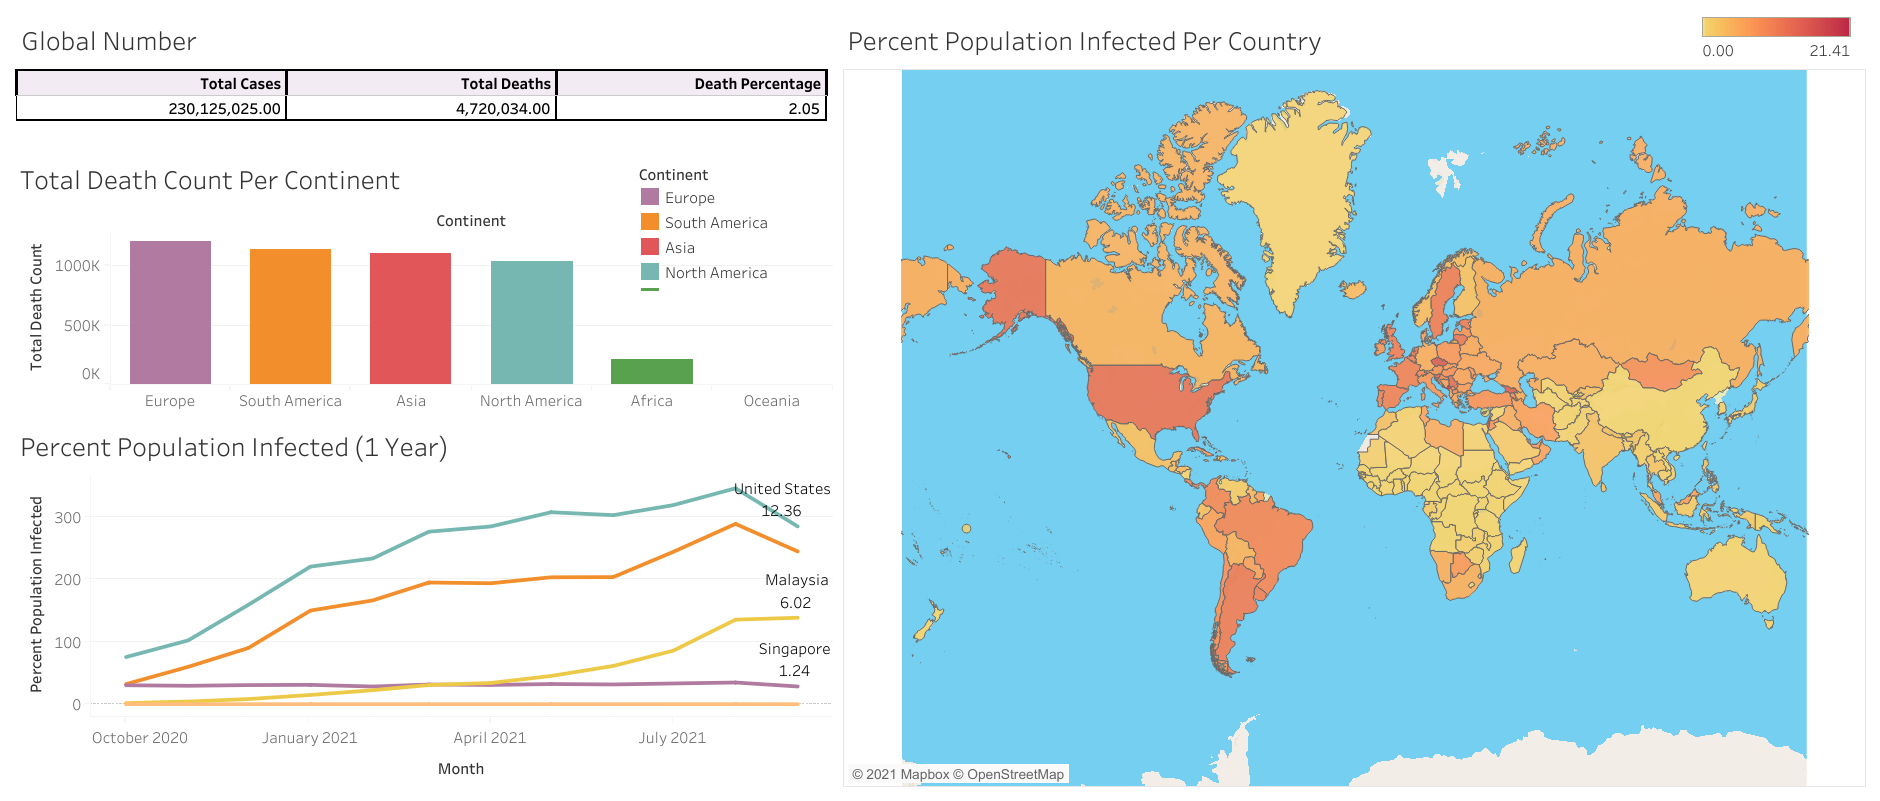

What the dashboard file says about the page in this screenshot:
{"tool":"tableau","page":{"name":"Dashboard 1","canvas":[1000,1000],"units":"permille","ordinal":0},"visuals":[{"type":"worksheet","title":"Global Number","mark":"Automatic","box":[4.8,8.8,440.6,173.4]},{"type":"worksheet","title":"Percent Population Infected Per Country","mark":"Automatic","box":[445.4,8.8,549.8,982.4]},{"type":"legend","title":"Percent Population Infected Per Country","param":"[federated.13u2zus0j4oqf713kscjr1hbdqee].[sum:PercentPopulationInfected:qk]","box":[902.2,15.4,84.5,56]},{"type":"worksheet","title":"Total Death Count Per Continent","mark":"Automatic","rows":["TotalDeathCount"],"cols":["location"],"box":[4.8,182.2,440.6,337]},{"type":"legend","title":"Total Death Count Per Continent","param":"[federated.0tu4wh71gmqwuv19n50cr0v2b9mq].[none:location:nk]","box":[338.6,199.8,84.5,162.5]},{"type":"worksheet","title":"Percent Population Infected (1 Year)","mark":"Automatic","rows":["PercentPopulationInfected"],"cols":["date"],"box":[4.8,519.2,440.6,472]}]}

Visuals, with their boxes on the dashboard's canvas, which has no fixed pixel size, in thousandths of its width and height (x1, y1, x2, y2). These are canvas units, not pixel positions in the 1880x801 screenshot, which may show the page scaled, cropped or inside an application window:
"Global Number" worksheet: 5/9/445/182
"Percent Population Infected Per Country" worksheet: 445/9/995/991
"Percent Population Infected Per Country" legend: 902/15/987/71
"Total Death Count Per Continent" worksheet: 5/182/445/519
"Total Death Count Per Continent" legend: 339/200/423/362
"Percent Population Infected (1 Year)" worksheet: 5/519/445/991
